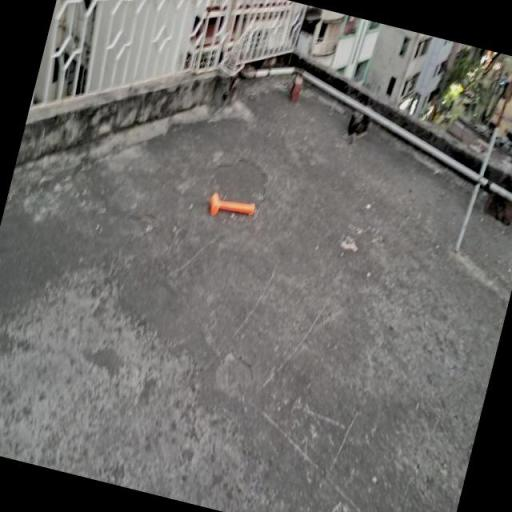mallet: (206, 191, 256, 224)
